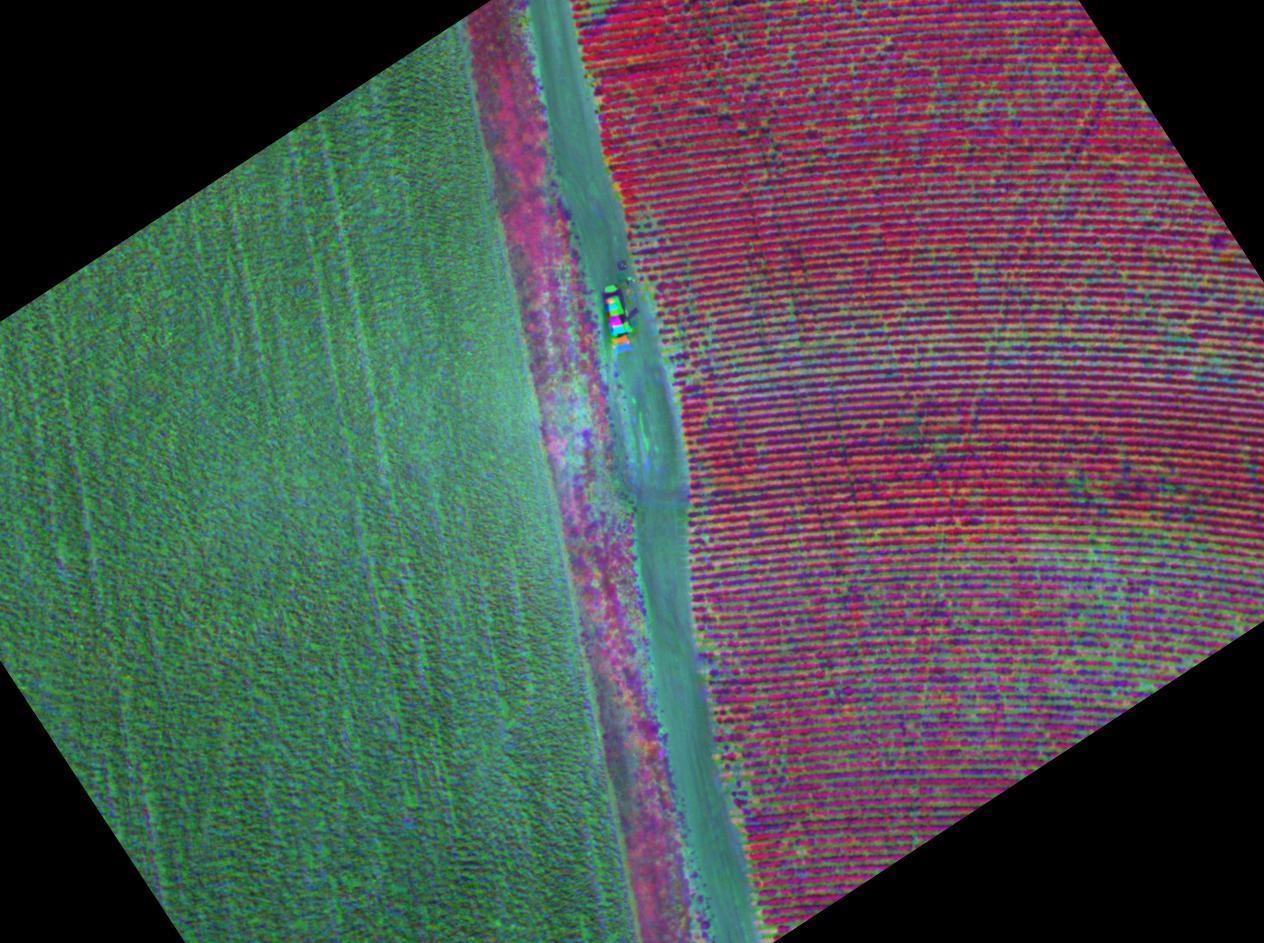dc: (969, 709, 973, 714), (790, 315, 794, 319), (1089, 554, 1093, 558), (708, 646, 712, 650), (922, 700, 926, 704), (745, 785, 749, 789), (987, 342, 990, 346), (1106, 536, 1110, 539), (734, 762, 738, 765), (1075, 306, 1078, 309)
